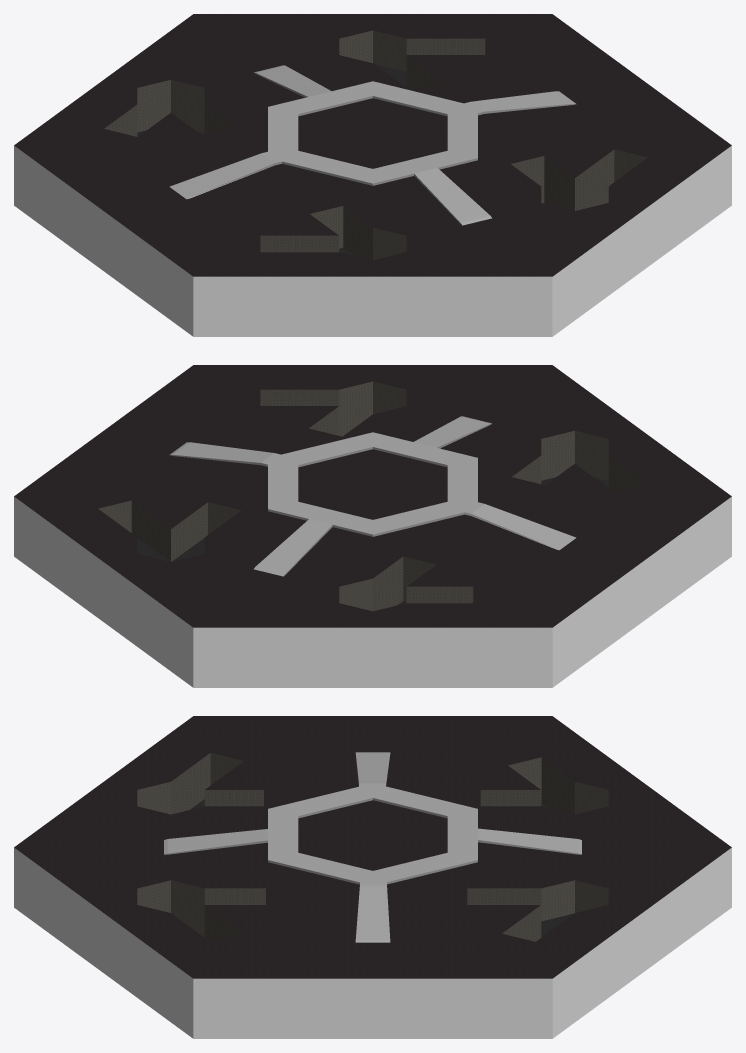
File: Hexadome.glb
The picture shows the model from 3 angles, top to bottom: view 1: azimuth 30°, elevation 25°; view 2: azimuth 150°, elevation 25°; view 3: azimuth 270°, elevation 25°; orthographic projection.
Parts seen in each view (by area): view 1: Root Node; view 2: Root Node; view 3: Root Node.
Boxes of the visible parts, left/top/right/bottom form: Root Node: left=14, top=14, right=731, bottom=336; Root Node: left=14, top=365, right=731, bottom=687; Root Node: left=14, top=716, right=731, bottom=1038.
Bounding box in the file's own units: 164 × 21.28 × 189.
130 materials, 88 textured.
